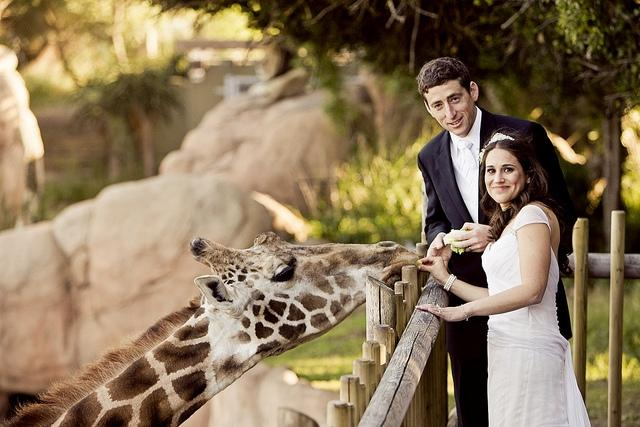lettuce: (442, 229, 470, 254)
